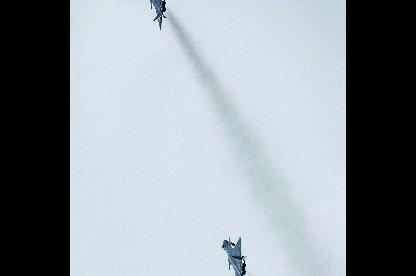F4: (221, 234, 247, 275), (143, 0, 167, 32)
